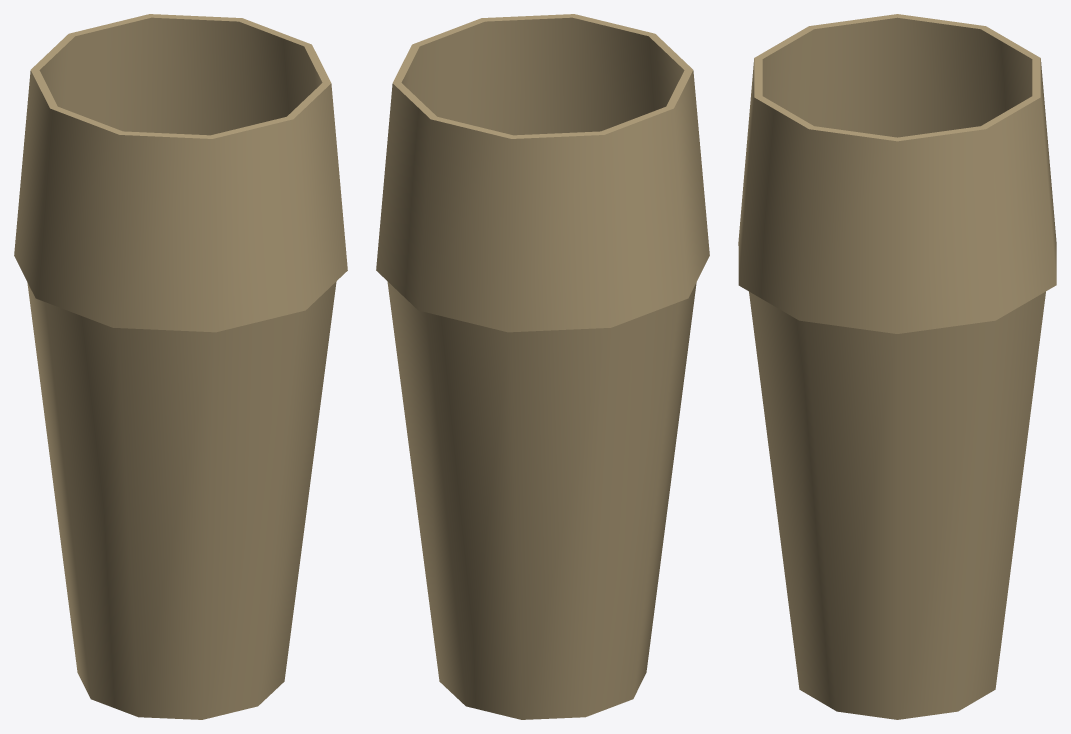
File: baso.fbx
3 views of the same model, side by side, from view 1: azimuth 30°, elevation 25°; view 2: azimuth 150°, elevation 25°; view 3: azimuth 270°, elevation 25° (orthographic).
Visible parts, largest first — view 1: Cylinder029; view 2: Cylinder029; view 3: Cylinder029.
Part boxes in pixels (box(x1,y1,x2,y2)): Cylinder029: box(14, 14, 347, 719); Cylinder029: box(376, 14, 709, 719); Cylinder029: box(738, 14, 1056, 719).
Size of the model in its own units: 1137 by 2245 by 1081.
